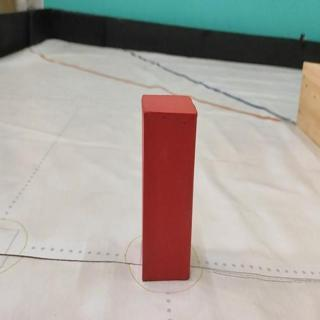redbox: (141, 94, 193, 281)
